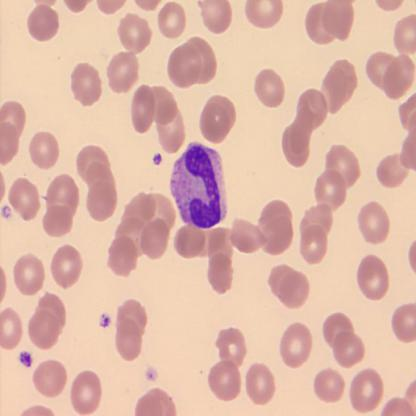Band Neutrophil: (166, 138, 231, 232)
